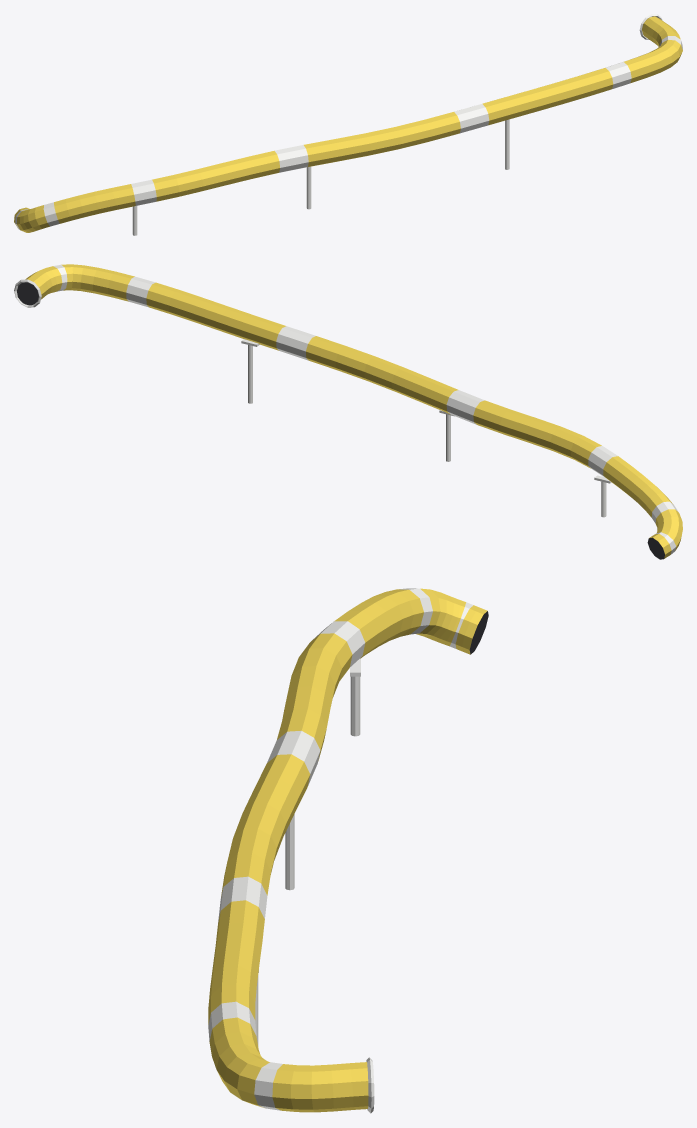
File: CR_Tobogan_Piscina.fbx
The picture shows the model from 3 angles, top to bottom: view 1: azimuth 30°, elevation 25°; view 2: azimuth 150°, elevation 25°; view 3: azimuth 270°, elevation 25°; orthographic projection. The views are drawn at different scales.
Visible parts, largest first — view 1: CR_Tobogan_Piscina; view 2: CR_Tobogan_Piscina; view 3: CR_Tobogan_Piscina.
Boxes of the visible parts, x1,y1,x2,y2 form: CR_Tobogan_Piscina: [14, 14, 682, 235]; CR_Tobogan_Piscina: [14, 264, 682, 559]; CR_Tobogan_Piscina: [208, 588, 488, 1113].
Size of the model in its own units: 39.63 by 5.53 by 7.71.
